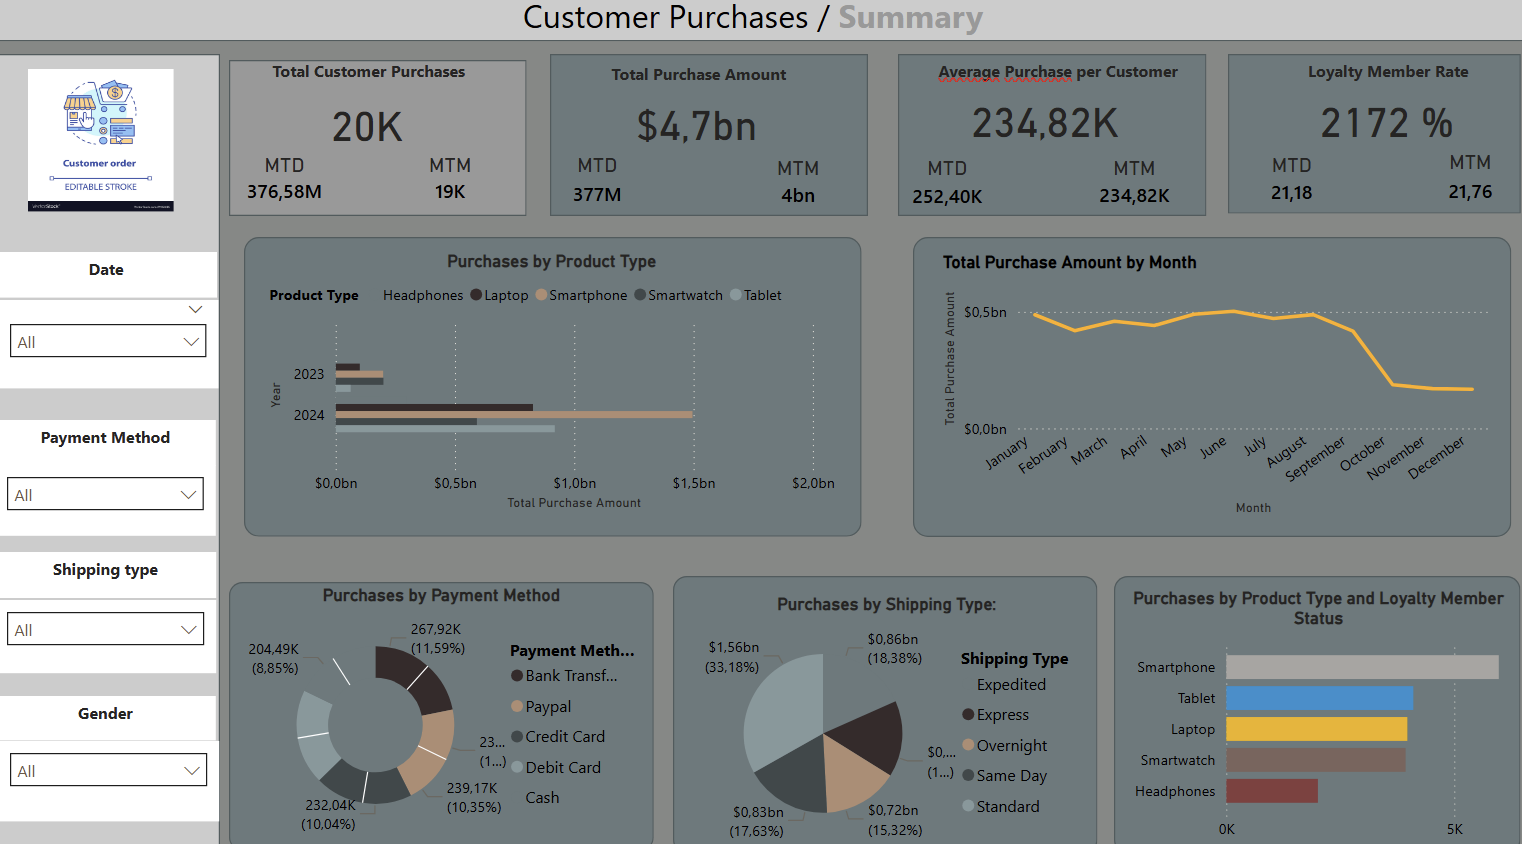

The dashboard page shown, as its layout file describes it:
{"tool":"powerbi","page":{"name":"Summary","canvas":[1280,720],"ordinal":0},"visuals":[{"type":"shape","box":[196,59,248,130],"z":0},{"type":"card","title":"Total Customer Purchases","fields":{"Values":["Customer purchase behavior - Electronic Sales Data.Total Customer Purchases"]},"box":[216.2,83.8,185,53.8],"z":1000},{"type":"shape","box":[0,0,1280,44.3],"z":2000},{"type":"shape","box":[0,55,187.5,665],"z":3000},{"type":"textbox","box":[434.3,0,614.3,54.3],"z":4000},{"type":"textbox","box":[178,55,268,54],"z":5000},{"type":"card","title":"MTD","fields":{"Values":["Customer purchase behavior - Electronic Sales Data.Month to date"]},"box":[187.5,137.5,107.5,47.5],"z":6000},{"type":"shape","box":[463,54,265,135],"z":7000},{"type":"card","title":"MTM","fields":{"Values":["Customer purchase behavior - Electronic Sales Data.1.(MoM)"]},"box":[322.5,137.5,113.8,47.5],"z":8000},{"type":"card","title":"Total Customer Purchases","fields":{"Values":["Customer purchase behavior - Electronic Sales Data.Total Purchase Amount"]},"box":[493.1,86,184.9,53],"z":9000},{"type":"card","title":"MTD","fields":{"Values":["Customer purchase behavior - Electronic Sales Data.2. MTD Total Purchase Amount"]},"box":[452.5,137.5,98.8,52.5],"z":10000},{"type":"card","title":"MTM","fields":{"Values":["Customer purchase behavior - Electronic Sales Data.2.MoM_Total_Purchase_Amount"]},"box":[618.8,138.8,98.8,50],"z":11000},{"type":"textbox","box":[452.9,57.3,268,54.5],"z":12000},{"type":"shape","box":[752,54,257,135],"z":13000},{"type":"card","title":"Total Customer Purchases","fields":{"Values":["Customer purchase behavior - Electronic Sales Data.Average Purchase per Customer"]},"box":[782.6,81.7,184.9,53],"z":14000},{"type":"card","title":"MTD","fields":{"Values":["Customer purchase behavior - Electronic Sales Data.3.MTD Average Purchase per Customer"]},"box":[741,139,107,52],"z":15000},{"type":"card","title":"MTM","fields":{"Values":["Customer purchase behavior - Electronic Sales Data.Average Spending by Payment Method"]},"box":[899,139,99,49],"z":16000},{"type":"shape","box":[1028,54,244,133],"z":17000},{"type":"card","title":"Total Customer Purchases","fields":{"Values":["Customer purchase behavior - Electronic Sales Data.Loyalty Member Rate"]},"box":[1067.9,81.7,184.9,53],"z":18000},{"type":"card","title":"MTD","fields":{"Values":["Customer purchase behavior - Electronic Sales Data.4.Loyalty Member Rate"]},"box":[1027.5,136.2,106.2,50],"z":19000},{"type":"card","title":"MTM","fields":{"Values":["Customer purchase behavior - Electronic Sales Data.4. MoM Loyalty Member Rate"]},"box":[1181,135,99,53],"z":20000},{"type":"textbox","box":[752,54,267,55],"z":21000},{"type":"textbox","box":[1039.2,54.5,242.2,54.5],"z":22000},{"type":"shape","box":[206.5,207.5,514.6,249.8],"z":23000},{"type":"shape","box":[765.7,207.1,498.6,250],"z":24000},{"type":"lineChart","fields":{"Y":["Customer purchase behavior - Electronic Sales Data.Total Purchase Amount"],"Category":["Date table.Date.Variation.Date Hierarchy.Month"]},"box":[785.7,220,464.3,224.3],"z":25000},{"type":"shape","box":[196,496,354,224],"z":26000},{"type":"shape","box":[565,488.8,353.8,231.2],"z":27000},{"type":"shape","box":[932.5,488.8,338.8,231.2],"z":28000},{"type":"donutChart","title":"Purchases by Payment Method","fields":{"Category":["Customer purchase behavior - Electronic Sales Data.Payment Method"],"Y":["Customer purchase behavior - Electronic Sales Data.Average Spending by Payment Method"],"Series":["Customer purchase behavior - Electronic Sales Data.Loyalty Member"]},"box":[201,497,344,217],"z":29000},{"type":"clusteredBarChart","title":"Purchases by Product Type","fields":{"Category":["Date table.Date.Variation.Date Hierarchy.Year"],"Y":["Customer purchase behavior - Electronic Sales Data.Total Purchase Amount"],"Series":["Customer purchase behavior - Electronic Sales Data.Product Type"]},"box":[222.9,217.1,480,227.1],"z":30000},{"type":"pieChart","title":"Purchases by Shipping Type:","fields":{"Category":["Customer purchase behavior - Electronic Sales Data.Shipping Type","Date table.Date.Variation.Date Hierarchy.Month"],"Y":["Customer purchase behavior - Electronic Sales Data.Total Purchase Amount"]},"box":[569,504,346,216],"z":31000},{"type":"clusteredBarChart","title":"Purchases by Product Type and Loyalty Member Status","fields":{"Y":["Customer purchase behavior - Electronic Sales Data.Total_Purchases"],"Category":["Customer purchase behavior - Electronic Sales Data.Rating","Customer purchase behavior - Electronic Sales Data.Product Type"]},"box":[939,501,326,219],"z":32000},{"type":"slicer","fields":{"Values":["Date table.Date.Variation.Date Hierarchy.Year","Date table.Date.Variation.Date Hierarchy.Quarter","Date table.Date.Variation.Date Hierarchy.Month","Date table.Date.Variation.Date Hierarchy.Day"]},"box":[1.2,258.8,183.8,73.8],"z":33000},{"type":"textbox","box":[0.8,470.8,184.2,38.3],"z":34000},{"type":"textbox","box":[1,360,184,38],"z":35000},{"type":"textbox","box":[1,220,185,38],"z":36000},{"type":"slicer","fields":{"Values":["Customer purchase behavior - Electronic Sales Data.Payment Method"]},"box":[1,398,184,59],"z":37000},{"type":"slicer","fields":{"Values":["Customer purchase behavior - Electronic Sales Data.Shipping Type"]},"box":[0.8,509.2,184.2,60.8],"z":38000},{"type":"image","box":[21.2,61.2,131.2,128.8],"z":39000},{"type":"textbox","box":[1,589,184,37],"z":40000},{"type":"slicer","fields":{"Values":["Customer purchase behavior - Electronic Sales Data.Gender"]},"box":[1.4,627.1,184.3,67.1],"z":40001}]}

Visuals, with their boxes in screenshot pixels (x1, y1, x2, y2), scaled from the page's 1280x720 canvas onto the 1522x844 screenshot:
shape: locate(233, 69, 528, 222)
"Total Customer Purchases" card: locate(257, 98, 477, 161)
shape: locate(0, 0, 1521, 52)
shape: locate(0, 64, 223, 843)
textbox: locate(516, 0, 1247, 64)
textbox: locate(212, 64, 530, 128)
"MTD" card: locate(223, 161, 351, 217)
shape: locate(551, 63, 866, 222)
"MTM" card: locate(383, 161, 519, 217)
"Total Customer Purchases" card: locate(586, 101, 806, 163)
"MTD" card: locate(538, 161, 656, 223)
"MTM" card: locate(736, 163, 853, 221)
textbox: locate(539, 67, 857, 131)
shape: locate(894, 63, 1200, 222)
"Total Customer Purchases" card: locate(931, 96, 1150, 158)
"MTD" card: locate(881, 163, 1008, 224)
"MTM" card: locate(1069, 163, 1187, 220)
shape: locate(1222, 63, 1512, 219)
"Total Customer Purchases" card: locate(1270, 96, 1490, 158)
"MTD" card: locate(1222, 160, 1348, 218)
"MTM" card: locate(1404, 158, 1521, 220)
textbox: locate(894, 63, 1212, 128)
textbox: locate(1236, 64, 1521, 128)
shape: locate(246, 243, 857, 536)
shape: locate(910, 243, 1503, 536)
lineChart - Customer purchase behavior - Electronic Sales Data.Total Purchase Amount x Date table.Date.Variation.Date Hierarchy.Month: locate(934, 258, 1486, 521)
shape: locate(233, 581, 654, 843)
shape: locate(672, 573, 1093, 843)
shape: locate(1109, 573, 1512, 843)
"Purchases by Payment Method" donutChart: locate(239, 583, 648, 837)
"Purchases by Product Type" clusteredBarChart: locate(265, 254, 836, 521)
"Purchases by Shipping Type:" pieChart: locate(677, 591, 1088, 843)
"Purchases by Product Type and Loyalty Member Status" clusteredBarChart: locate(1117, 587, 1504, 843)
slicer - Date table.Date.Variation.Date Hierarchy.Year x Date table.Date.Variation.Date Hierarchy.Quarter: locate(1, 303, 220, 390)
textbox: locate(1, 552, 220, 597)
textbox: locate(1, 422, 220, 467)
textbox: locate(1, 258, 221, 302)
slicer - Customer purchase behavior - Electronic Sales Data.Payment Method: locate(1, 467, 220, 536)
slicer - Customer purchase behavior - Electronic Sales Data.Shipping Type: locate(1, 597, 220, 668)
image: locate(25, 72, 181, 223)
textbox: locate(1, 690, 220, 734)
slicer - Customer purchase behavior - Electronic Sales Data.Gender: locate(2, 735, 221, 814)
